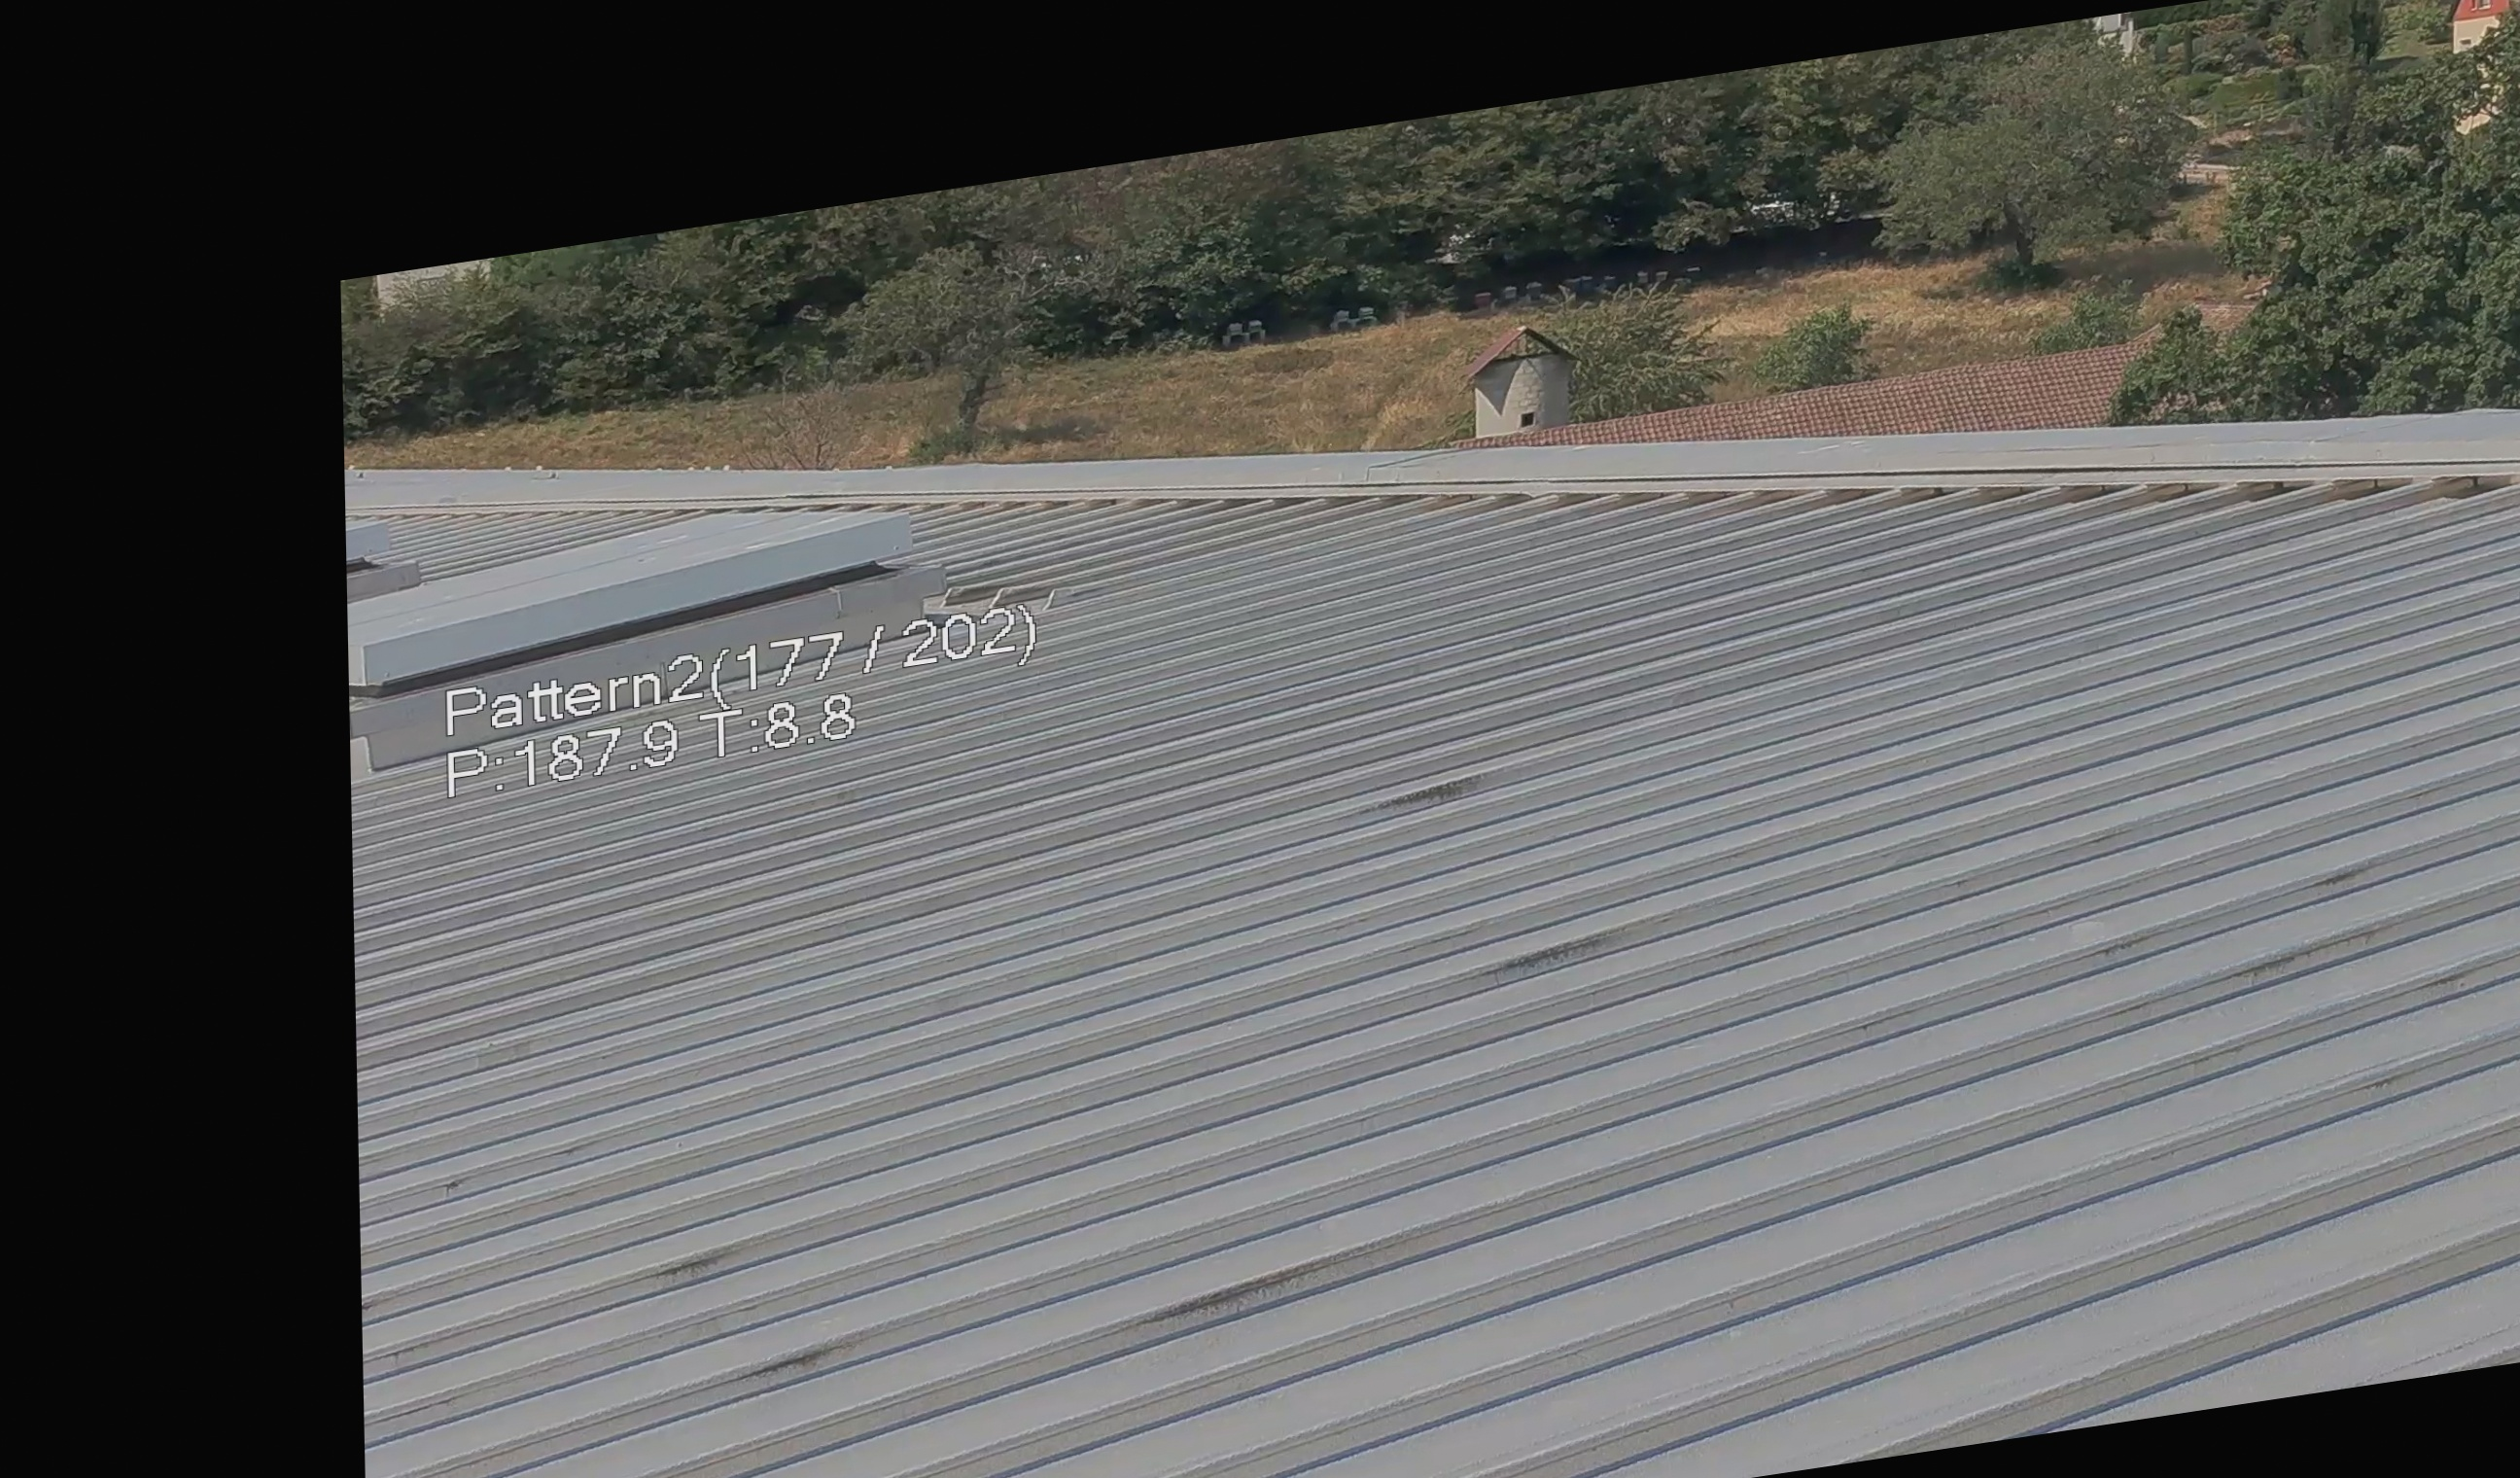Other: (1454, 306, 1593, 452)
